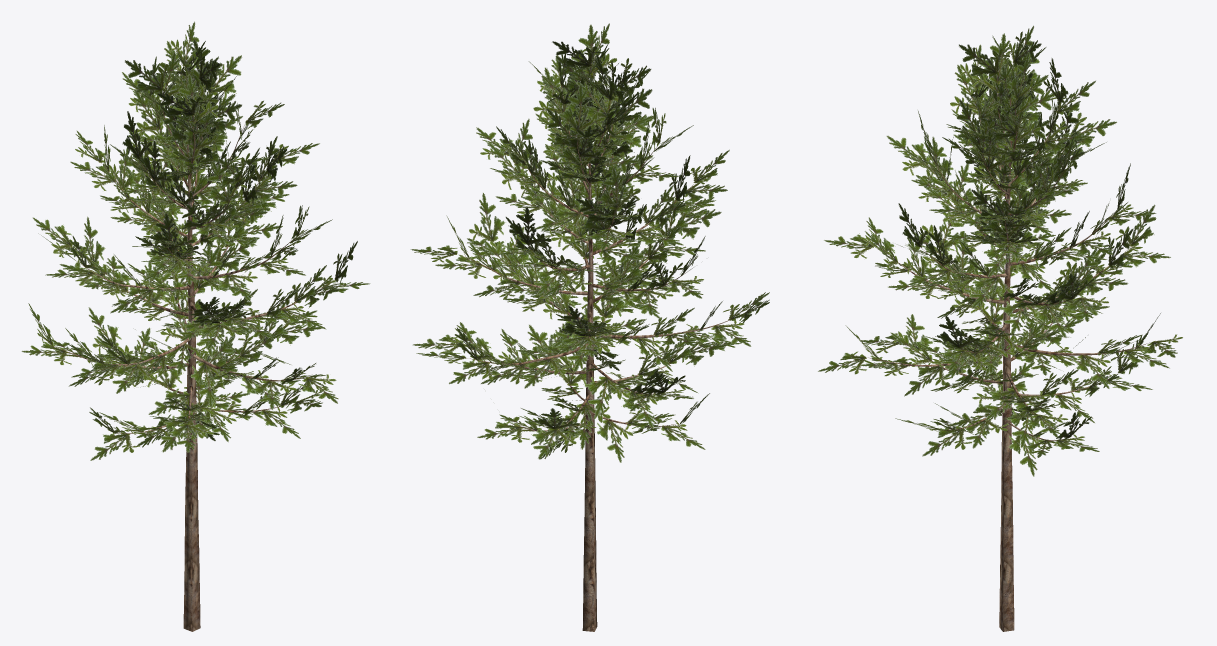
File: tree.dae
3 views of the same model, side by side, from view 1: azimuth 30°, elevation 25°; view 2: azimuth 150°, elevation 25°; view 3: azimuth 270°, elevation 25° (orthographic).
Parts seen in each view (by area): view 1: leaves, tree; view 2: leaves, tree; view 3: leaves, tree.
Boxes of the visible parts, x1,y1,x2,y2 form: leaves: (21, 21, 370, 460); tree: (54, 66, 332, 631); leaves: (410, 23, 769, 462); tree: (460, 66, 731, 631); leaves: (818, 25, 1182, 476); tree: (868, 63, 1150, 631).
Size of the model in its own units: 10.1 by 10.84 by 18.71.
2 materials, 2 textured.
